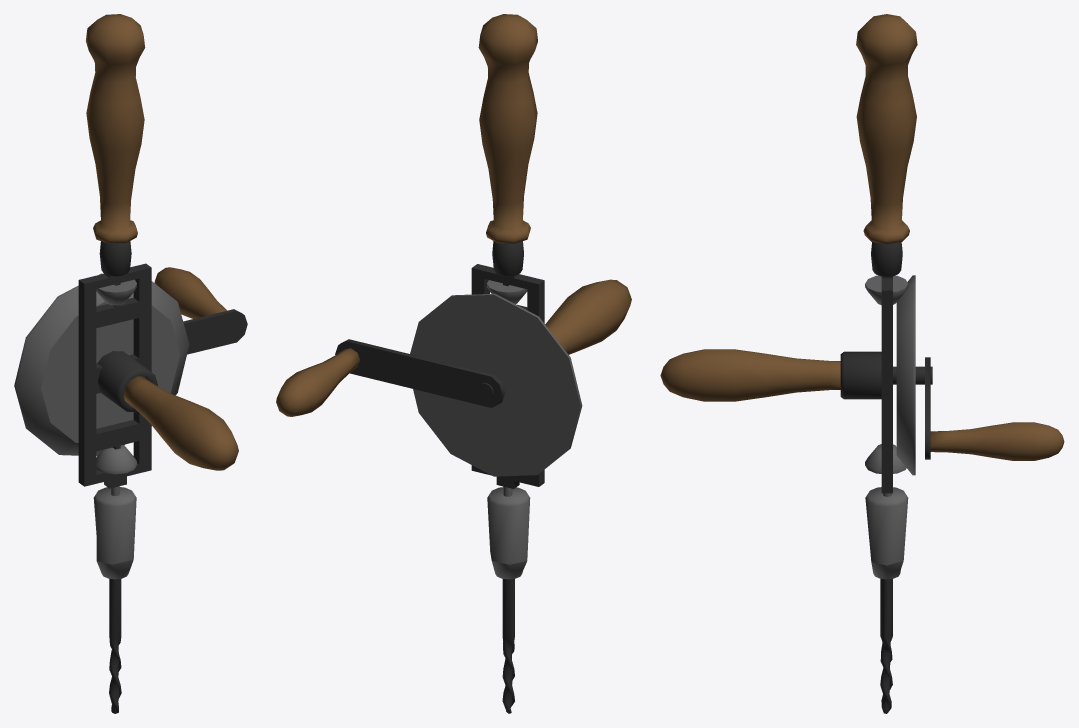
File: old hand drill.fbx
3 renders of one model, left to right at view 1: azimuth 30°, elevation 25°; view 2: azimuth 150°, elevation 25°; view 3: azimuth 270°, elevation 25°, orthographic.
Visible parts, largest first — view 1: mainhndl, frame, maingr01, main_ger, axlehndl, chuck, crnkhndl, crank_rm, axle, bit, bushing, btm_gear (+2 smaller); view 2: main_ger, mainhndl, crank_rm, axlehndl, crnkhndl, chuck, frame, bit, bushing; view 3: mainhndl, axlehndl, crnkhndl, main_ger, chuck, frame, axle, bit, bushing, top_gear.
Part boxes in pixels (x1=…): mainhndl: x1=86, y1=14, x2=145, y2=243; frame: x1=78, y1=263, x2=151, y2=488; maingr01: x1=41, y1=302, x2=179, y2=442; main_ger: x1=14, y1=273, x2=189, y2=456; axlehndl: x1=123, y1=375, x2=238, y2=470; chuck: x1=93, y1=487, x2=136, y2=564; crnkhndl: x1=154, y1=267, x2=226, y2=318; crank_rm: x1=183, y1=309, x2=247, y2=354; axle: x1=97, y1=351, x2=157, y2=412; bit: x1=109, y1=578, x2=121, y2=713; bushing: x1=99, y1=241, x2=131, y2=276; btm_gear: x1=96, y1=445, x2=136, y2=474; main_ger: x1=410, y1=293, x2=582, y2=476; mainhndl: x1=478, y1=14, x2=537, y2=243; crank_rm: x1=335, y1=339, x2=505, y2=407; axlehndl: x1=545, y1=279, x2=631, y2=354; crnkhndl: x1=276, y1=348, x2=360, y2=416; chuck: x1=487, y1=487, x2=530, y2=564; frame: x1=471, y1=264, x2=544, y2=488; bit: x1=502, y1=578, x2=514, y2=713; bushing: x1=492, y1=241, x2=523, y2=276; mainhndl: x1=856, y1=14, x2=917, y2=244; axlehndl: x1=660, y1=349, x2=840, y2=401; crnkhndl: x1=930, y1=422, x2=1064, y2=460; main_ger: x1=896, y1=275, x2=915, y2=475; chuck: x1=865, y1=487, x2=908, y2=565; frame: x1=881, y1=276, x2=892, y2=493; axle: x1=840, y1=351, x2=932, y2=399; bit: x1=880, y1=578, x2=892, y2=713; bushing: x1=871, y1=242, x2=902, y2=276; top_gear: x1=865, y1=275, x2=908, y2=305.
Size of the model in its own units: 139 by 386 by 203.
